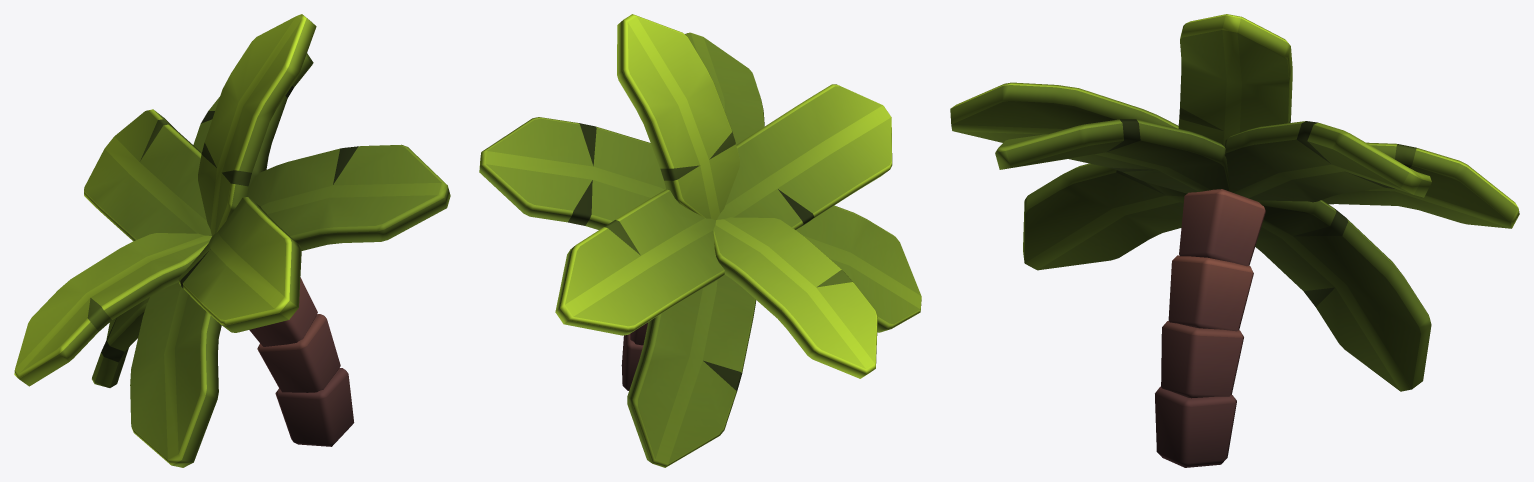
The model's file is palm_tree_5.fbx.
The picture shows the model from 3 angles, left to right: view 1: azimuth 30°, elevation 25°; view 2: azimuth 150°, elevation 25°; view 3: azimuth 270°, elevation 25°; orthographic projection. The views are drawn at different scales.
Visible parts, largest first — view 1: palm_tree_5; view 2: palm_tree_5; view 3: palm_tree_5.
Part boxes in pixels (left/top/right/bottom): palm_tree_5: left=14, top=14, right=450, bottom=467; palm_tree_5: left=479, top=14, right=921, bottom=467; palm_tree_5: left=950, top=14, right=1519, bottom=467.
Bounding box in the file's own units: 369 × 407 × 466.
